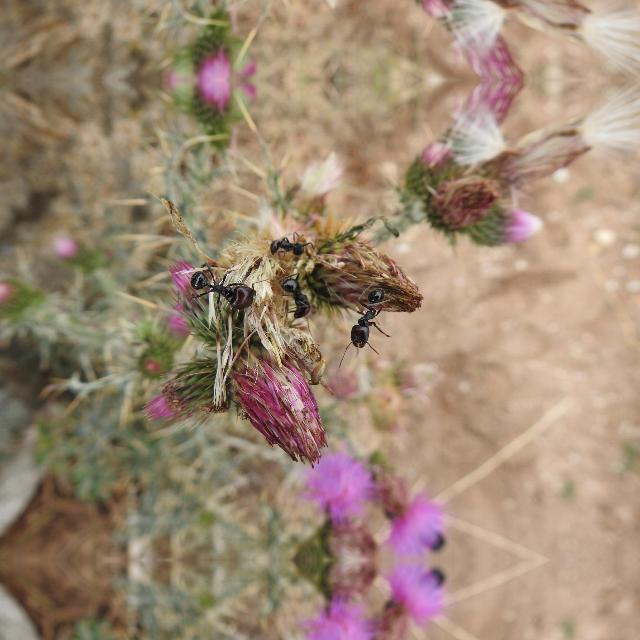Messor: (346, 281, 390, 357), (188, 261, 254, 309), (272, 268, 318, 326)
